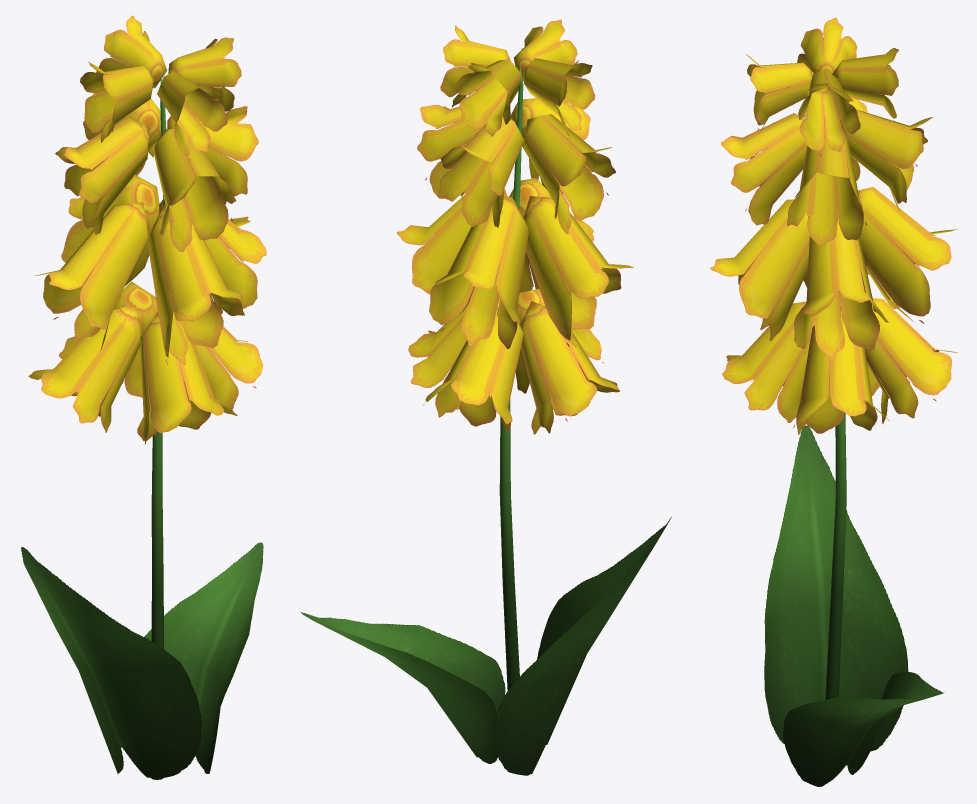
Rendered from Flower_4_Single.glb.
3 views of the same model, side by side, from view 1: azimuth 30°, elevation 25°; view 2: azimuth 150°, elevation 25°; view 3: azimuth 270°, elevation 25° (orthographic).
Visible parts, largest first — view 1: Flower_4_Single; view 2: Flower_4_Single; view 3: Flower_4_Single.
Part boxes in pixels (box(x1,y1,x2,y2)): Flower_4_Single: box(21, 15, 266, 779); Flower_4_Single: box(301, 19, 671, 775); Flower_4_Single: box(710, 17, 958, 786).
Bounding box in the file's own units: 1.07 × 2.42 × 0.7729.
2 materials, 2 textured.
